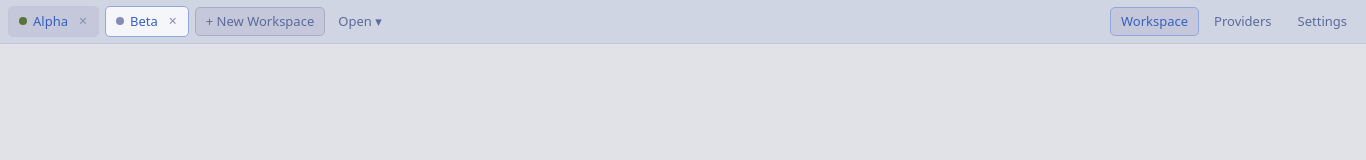
Test case: TabBar › the close button removes only that tab and keeps the workspace configured
This screenshot has width=1366, height=160.
What coordinates should you click on to do the following:
click the button named "Close Alpha"
I would click on:
 (83, 21)
Its box is [74,12,92,30].
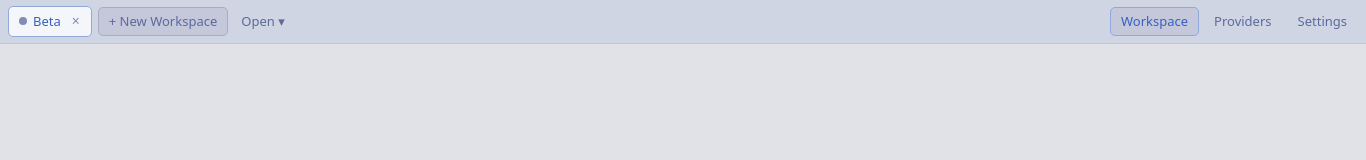
expect the tab "Beta ×" is shown: met, box [8,6,92,37]
expect the tab "Alpha" is gone: met
